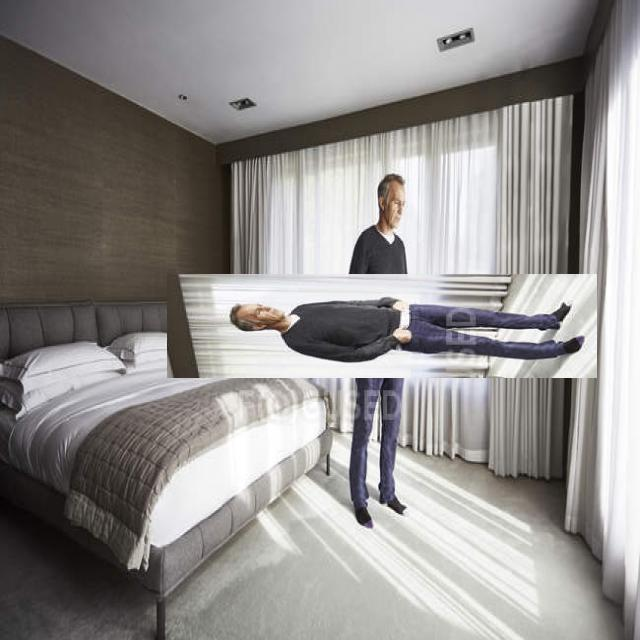NotFall: (159, 269, 587, 393)
